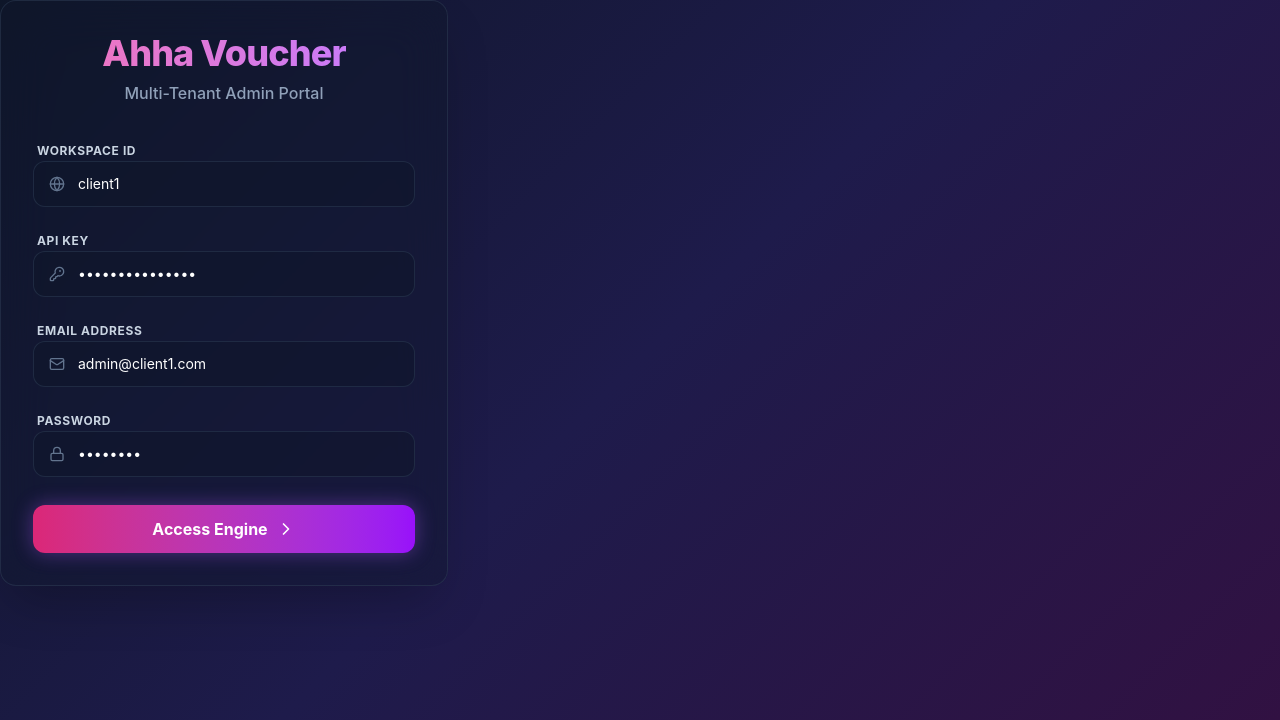
Test: Login Page (Vibe Coding + Multi-Tenant CMS) › SHOULD show a glowing red toast glass notification on 401 Unauthorized
Type "bad-key" into the password field with placeholder "Enter client API Key" below "API Key".
click(224, 274); type("bad-key")  # box [33,251,415,297]
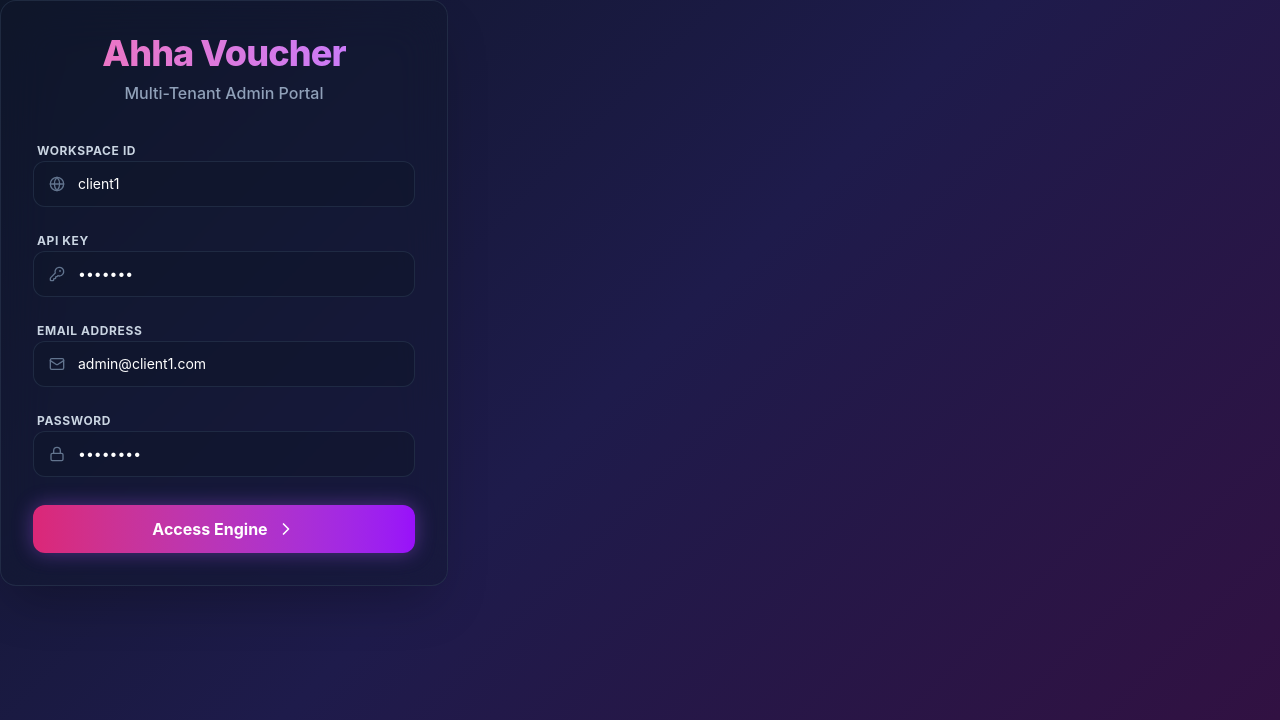
Click the button "Access Engine".
click(224, 529)  # box [33,505,415,553]
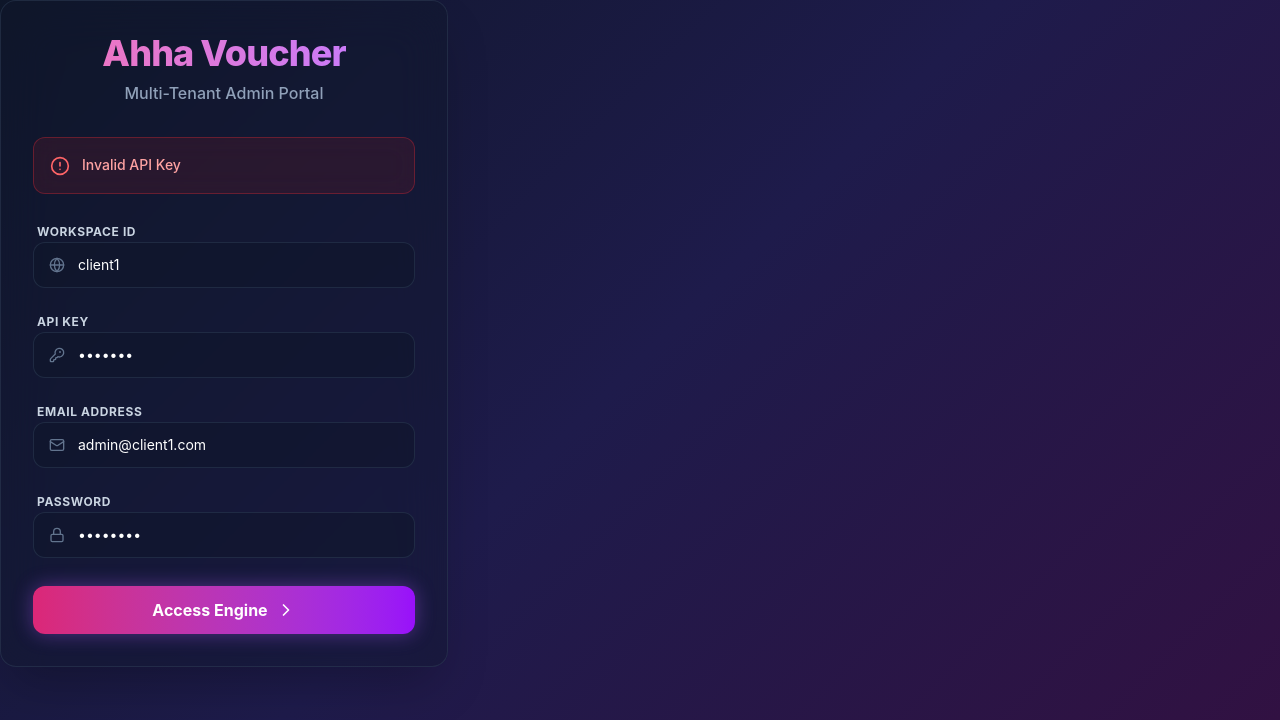
Result: the text "Invalid API Key" is shown at [82,154,181,177]
